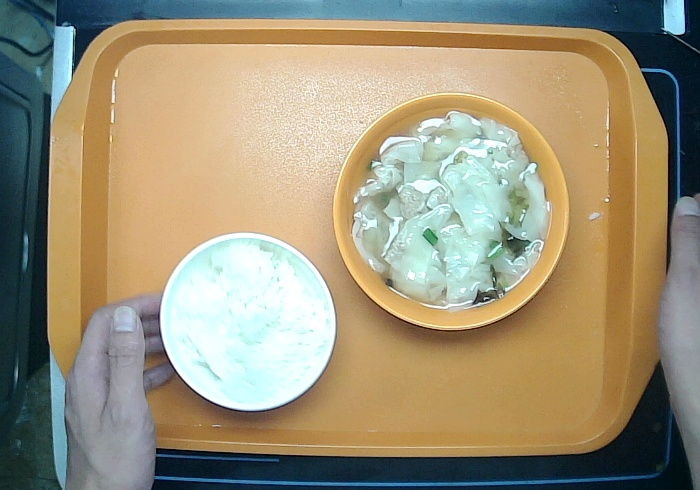NLDX-Fan_Wan: (157, 230, 339, 413)
NLDX-Hun_Tun_Wan: (330, 89, 571, 333)
